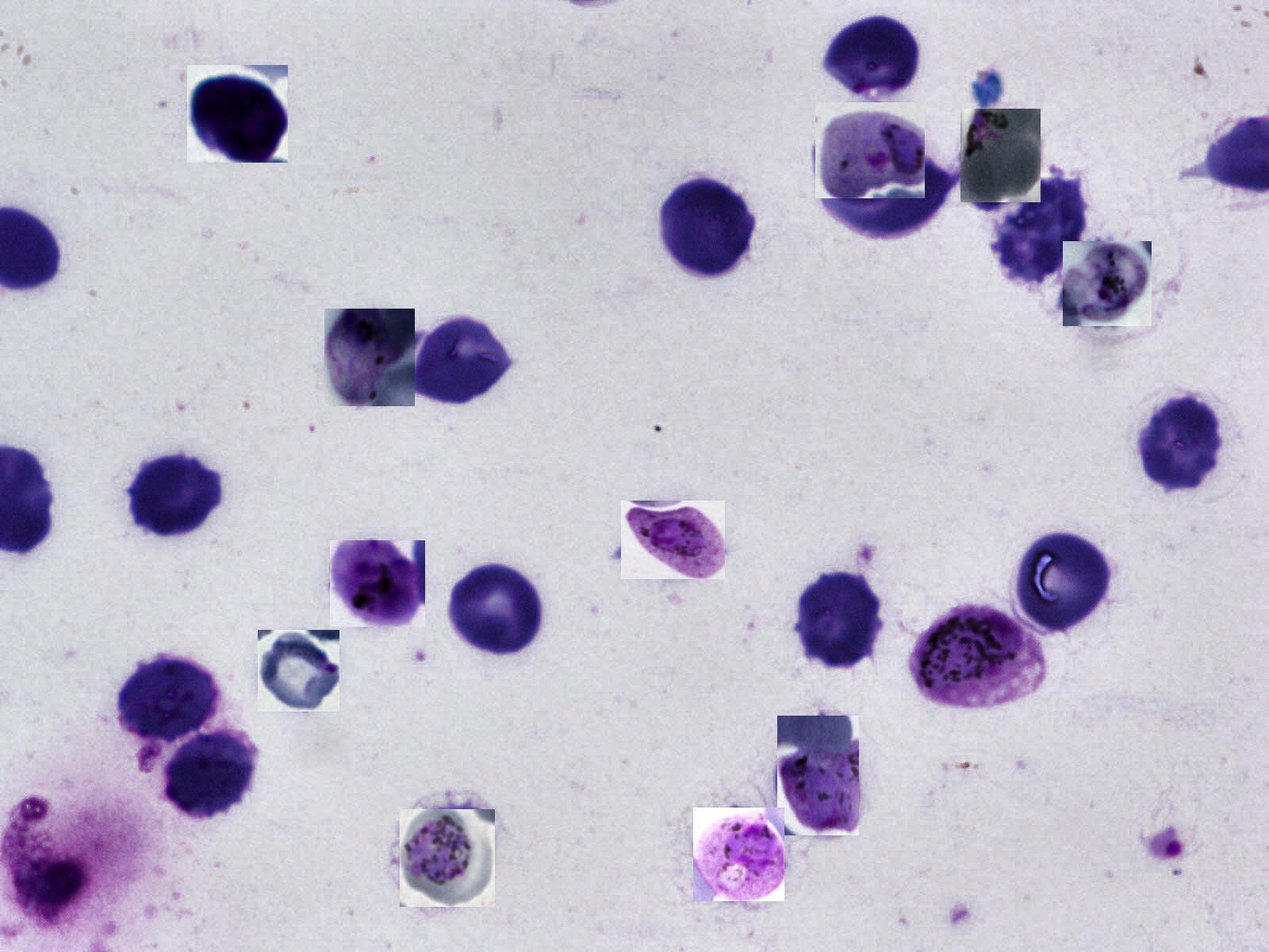Infected: (903, 611, 1047, 704), (815, 102, 925, 198), (187, 65, 288, 163), (777, 716, 859, 835), (400, 809, 495, 907), (324, 309, 415, 407), (693, 808, 784, 901), (330, 540, 425, 627), (622, 501, 726, 579), (1063, 241, 1152, 326), (960, 109, 1041, 202), (258, 630, 339, 712)
Uninfected: (826, 155, 957, 241), (660, 176, 758, 279), (446, 562, 548, 660), (1017, 532, 1114, 635), (999, 176, 1088, 283), (413, 315, 512, 405), (161, 732, 258, 820), (125, 451, 224, 536), (798, 568, 884, 665), (118, 658, 219, 739), (1137, 400, 1223, 491), (823, 14, 919, 94)
